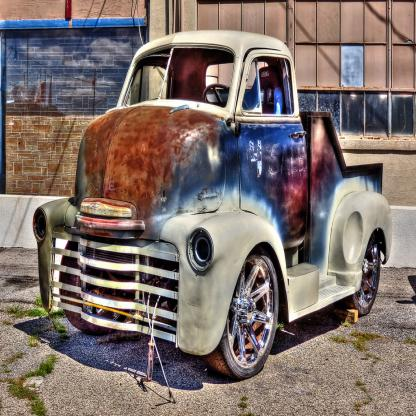Car: (33, 30, 395, 383)
